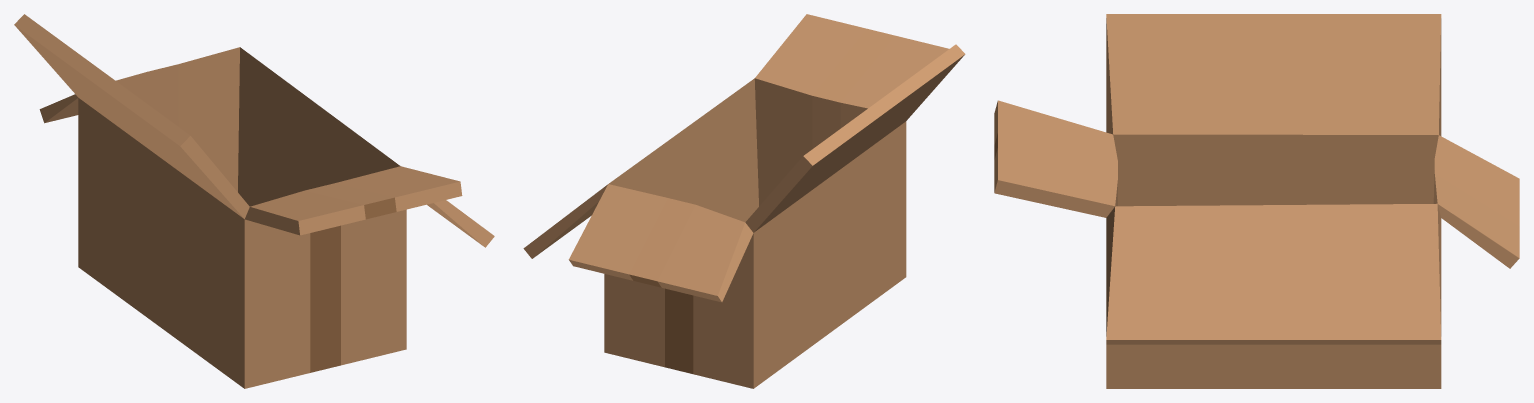
Rendered from BoxOpen2.fbx.
3 renders of one model, left to right at view 1: azimuth 30°, elevation 25°; view 2: azimuth 150°, elevation 25°; view 3: azimuth 270°, elevation 25°, orthographic. The views are drawn at different scales.
Visible parts, largest first — view 1: BoxOpen2; view 2: BoxOpen2; view 3: BoxOpen2.
Boxes of the visible parts, box(x1,y1,x2,y2) form: BoxOpen2: box(14, 14, 494, 388); BoxOpen2: box(523, 14, 965, 388); BoxOpen2: box(994, 14, 1519, 388).
Bounding box in the file's own units: 123 × 99.18 × 176.
1 material, 1 textured.
